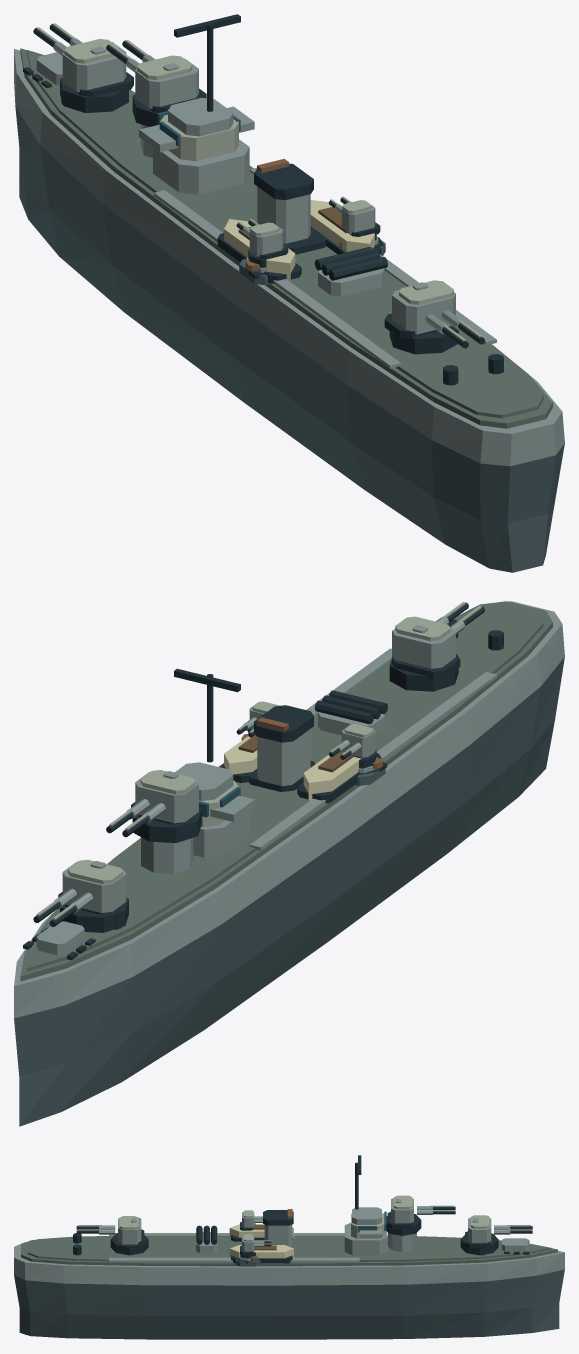
The model's file is historic-piorun.glb.
The picture shows the model from 3 angles, top to bottom: view 1: azimuth 30°, elevation 25°; view 2: azimuth 150°, elevation 25°; view 3: azimuth 270°, elevation 25°; orthographic projection. The views are drawn at different scales.
Visible parts, largest first — view 1: historic-piorun-historic-piorun-geometry, historic-piorun-part_bridge.055-geometry, historic-piorun-turret_main_0.045-geometry, historic-piorun-turret_main_2.039-geometry, historic-piorun-historic_funnel_0.056-geometry, historic-piorun-turret_main_1.044-geometry, historic-piorun-torpedo_bank_0.015-geometry, historic-piorun-turret_aa_aa-port.057-geometry, historic-piorun-turret_aa_aa-starboard.055-geometry; view 2: historic-piorun-historic-piorun-geometry, historic-piorun-part_bridge.055-geometry, historic-piorun-turret_main_2.039-geometry, historic-piorun-turret_main_1.044-geometry, historic-piorun-turret_main_0.045-geometry, historic-piorun-historic_funnel_0.056-geometry, historic-piorun-torpedo_bank_0.015-geometry, historic-piorun-turret_aa_aa-port.057-geometry; view 3: historic-piorun-historic-piorun-geometry, historic-piorun-part_bridge.055-geometry, historic-piorun-turret_main_2.039-geometry, historic-piorun-turret_main_0.045-geometry, historic-piorun-turret_main_1.044-geometry, historic-piorun-historic_funnel_0.056-geometry, historic-piorun-torpedo_bank_0.015-geometry, historic-piorun-turret_aa_aa-starboard.055-geometry, historic-piorun-turret_aa_aa-port.057-geometry.
Part boxes in pixels (left/top/right/bottom): historic-piorun-historic-piorun-geometry: left=14, top=48, right=564, bottom=572; historic-piorun-part_bridge.055-geometry: left=139, top=14, right=254, bottom=194; historic-piorun-turret_main_0.045-geometry: left=33, top=23, right=133, bottom=112; historic-piorun-turret_main_2.039-geometry: left=384, top=280, right=484, bottom=354; historic-piorun-historic_funnel_0.056-geometry: left=254, top=158, right=326, bottom=254; historic-piorun-turret_main_1.044-geometry: left=106, top=40, right=206, bottom=126; historic-piorun-torpedo_bank_0.015-geometry: left=314, top=247, right=387, bottom=296; historic-piorun-turret_aa_aa-port.057-geometry: left=236, top=219, right=288, bottom=267; historic-piorun-turret_aa_aa-starboard.055-geometry: left=329, top=196, right=380, bottom=240; historic-piorun-historic-piorun-geometry: left=14, top=601, right=564, bottom=1126; historic-piorun-part_bridge.055-geometry: left=174, top=668, right=254, bottom=857; historic-piorun-turret_main_2.039-geometry: left=389, top=602, right=484, bottom=691; historic-piorun-turret_main_1.044-geometry: left=106, top=770, right=201, bottom=842; historic-piorun-turret_main_0.045-geometry: left=33, top=859, right=128, bottom=932; historic-piorun-historic_funnel_0.056-geometry: left=248, top=705, right=315, bottom=791; historic-piorun-torpedo_bank_0.015-geometry: left=315, top=690, right=387, bottom=736; historic-piorun-turret_aa_aa-port.057-geometry: left=328, top=724, right=376, bottom=768; historic-piorun-historic-piorun-geometry: left=14, top=1224, right=564, bottom=1339; historic-piorun-part_bridge.055-geometry: left=344, top=1155, right=387, bottom=1255; historic-piorun-turret_main_2.039-geometry: left=76, top=1216, right=148, bottom=1255; historic-piorun-turret_main_0.045-geometry: left=460, top=1215, right=532, bottom=1255; historic-piorun-turret_main_1.044-geometry: left=386, top=1195, right=455, bottom=1235; historic-piorun-historic_funnel_0.056-geometry: left=261, top=1209, right=293, bottom=1247; historic-piorun-torpedo_bank_0.015-geometry: left=196, top=1225, right=217, bottom=1252; historic-piorun-turret_aa_aa-starboard.055-geometry: left=240, top=1234, right=271, bottom=1258; historic-piorun-turret_aa_aa-port.057-geometry: left=240, top=1210, right=262, bottom=1230.
Size of the model in its own units: 0.6098 by 1.36 by 4.11.
